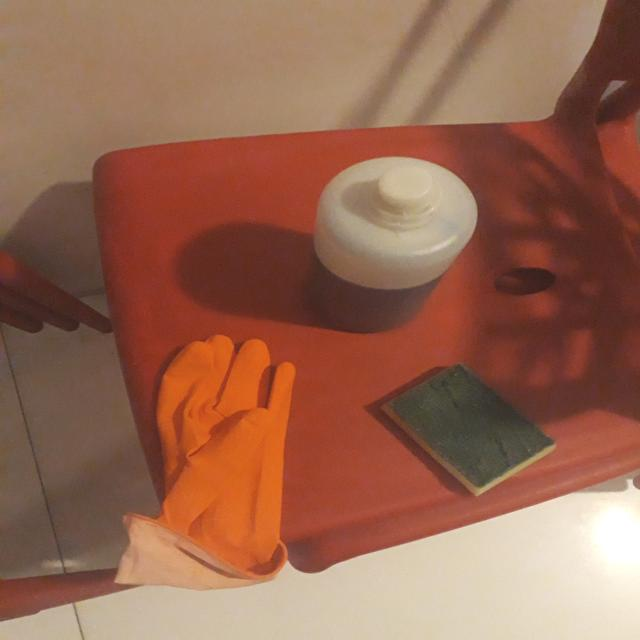glove: (136, 328, 313, 606)
